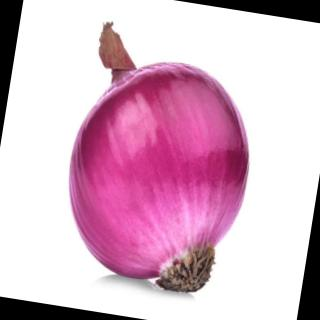Bawang Merah: (49, 12, 274, 304)
